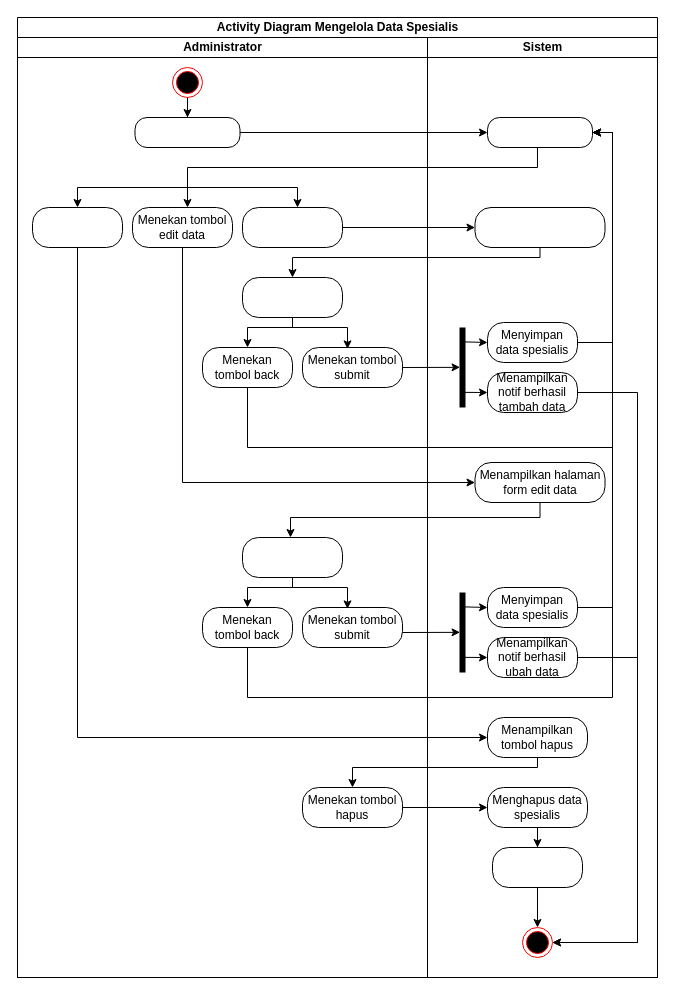
This 675x995 diagram has some shape labels left out. Each missing label, with the box of its shape:
Melengkapi form edit data: (242, 536, 342, 578)
Melengkapi form tambah data: (242, 276, 342, 318)
Memilih menu spesialis: (134, 116, 240, 148)
Menampilkan data spesialis: (486, 116, 592, 148)
Menampilkan halaman form tambah data: (474, 206, 605, 248)
Menampilkan notif berhasil hapus data: (492, 846, 582, 888)
Menekan checkbox: (32, 206, 122, 248)
Menekan tombol tambah data: (242, 206, 342, 248)
